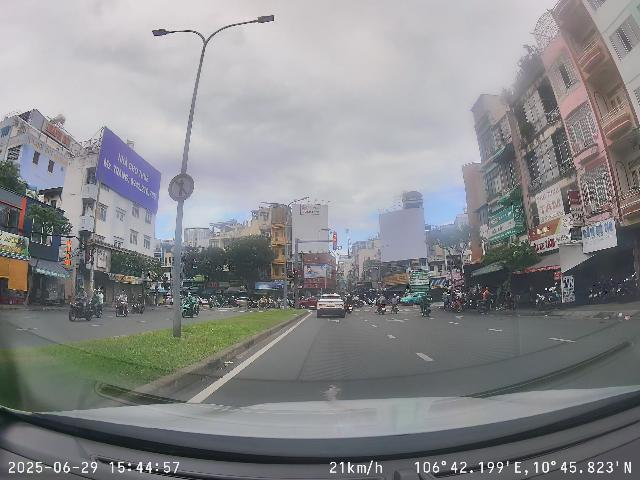136-cam-di-thang: (169, 173, 195, 202)
